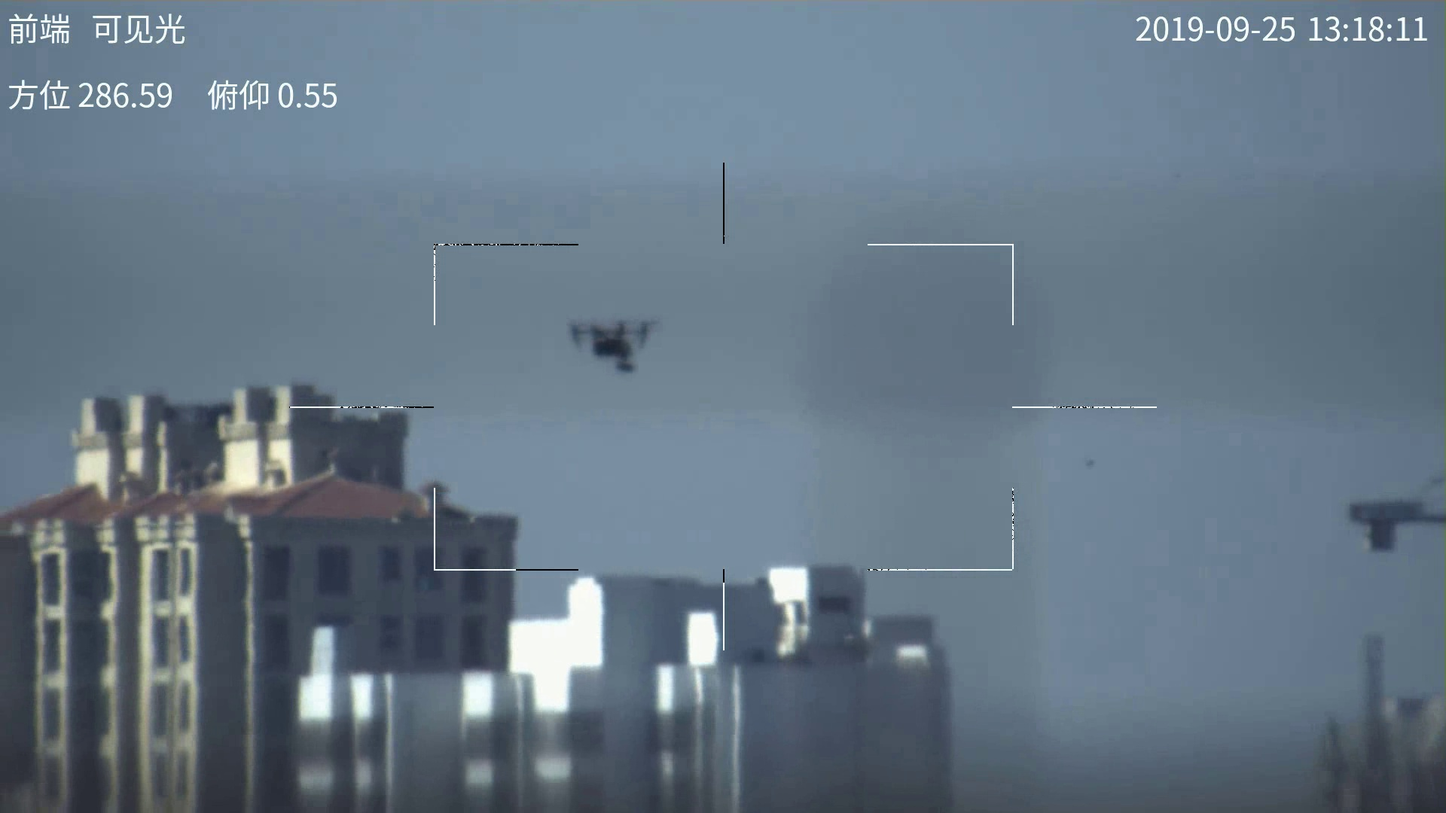drone: (556, 316, 653, 371)
